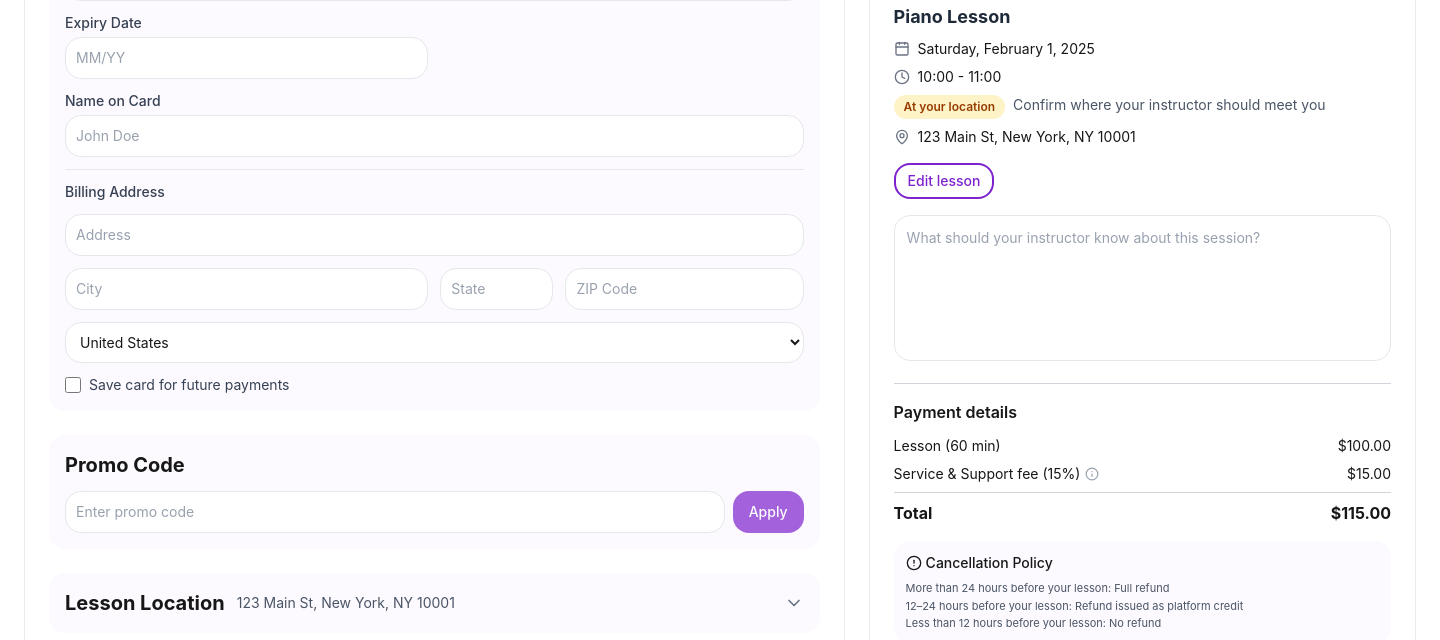
Test: PaymentConfirmation › location section › shows a read-only format summary instead of checkout format buttons
Step 1. Click the heading "Lesson Location" → (145, 603), box [65,589,225,617]
(page scrolled)
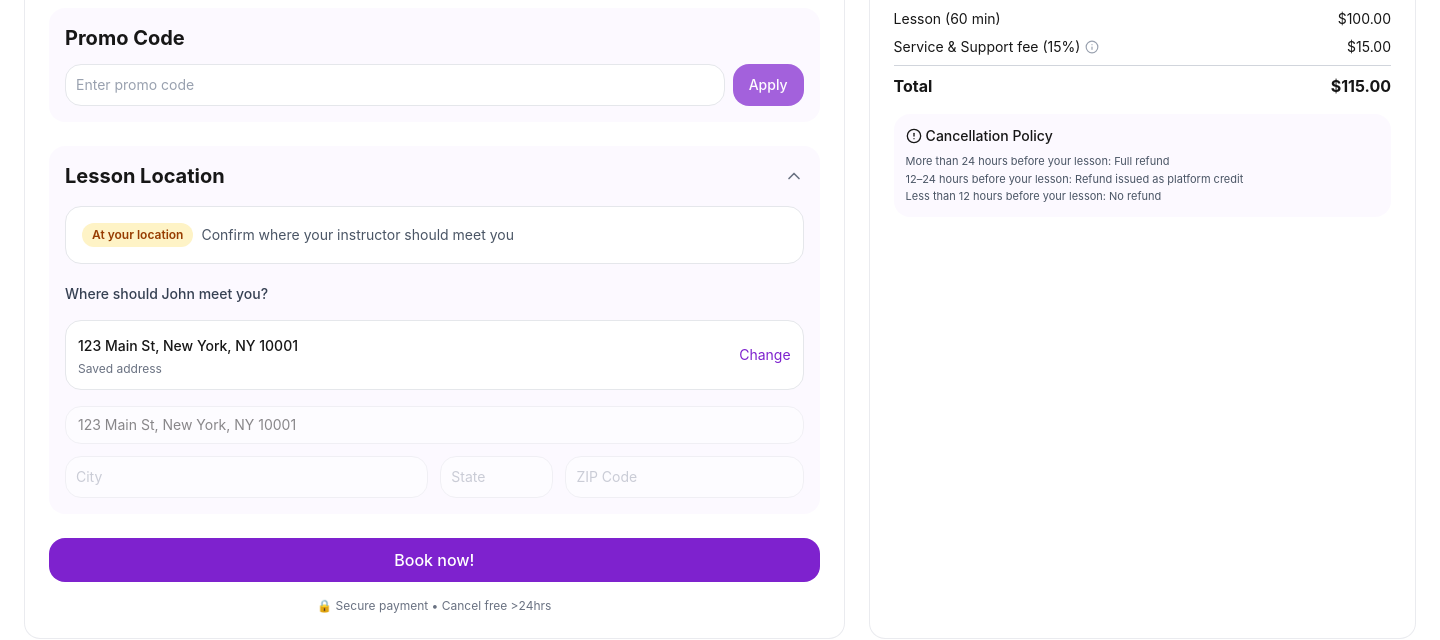
Expected: the text "At your location" is shown, [82,223,194,247]
Expected: the text "Confirm where your instructor should meet you" is shown, [202,225,514,245]
